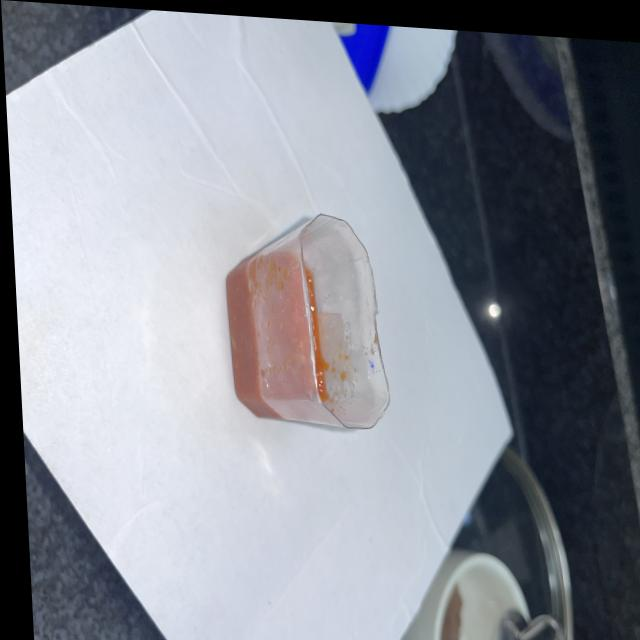blended_pepper: (215, 252, 322, 423)
